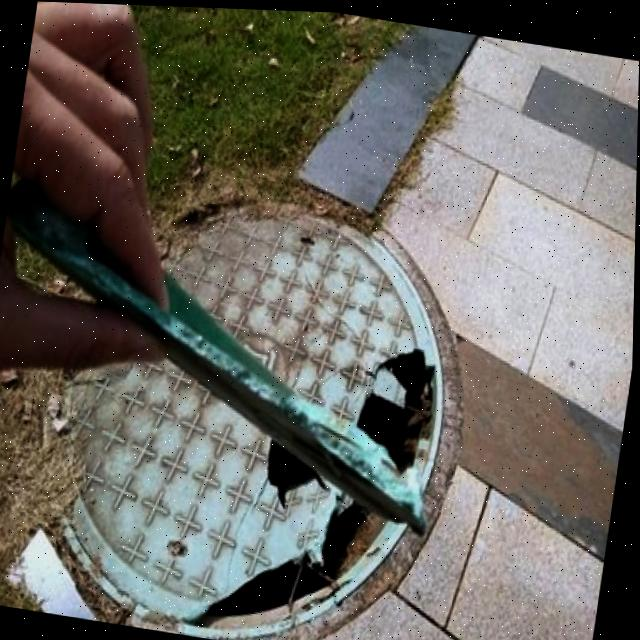manhole: (73, 173, 479, 640)
